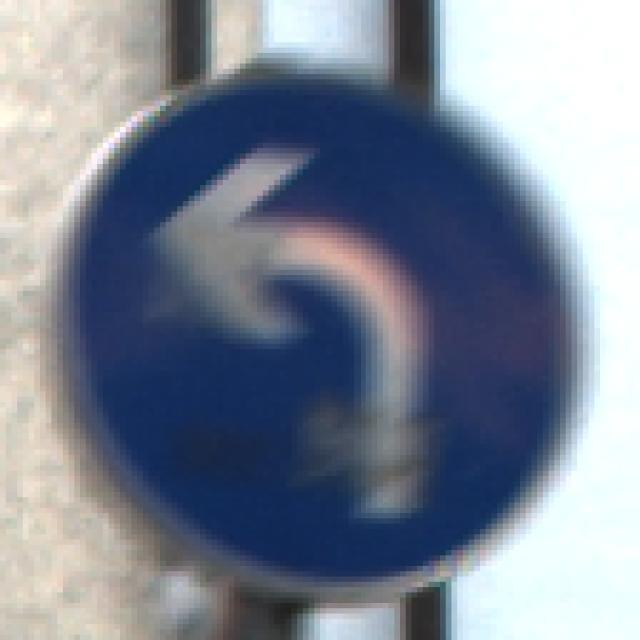compulsary turn left ahead: (53, 59, 592, 601)
